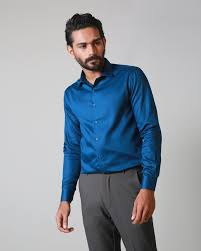F_dress pants: (75, 175, 161, 251)
F_shirt: (52, 67, 163, 198)
